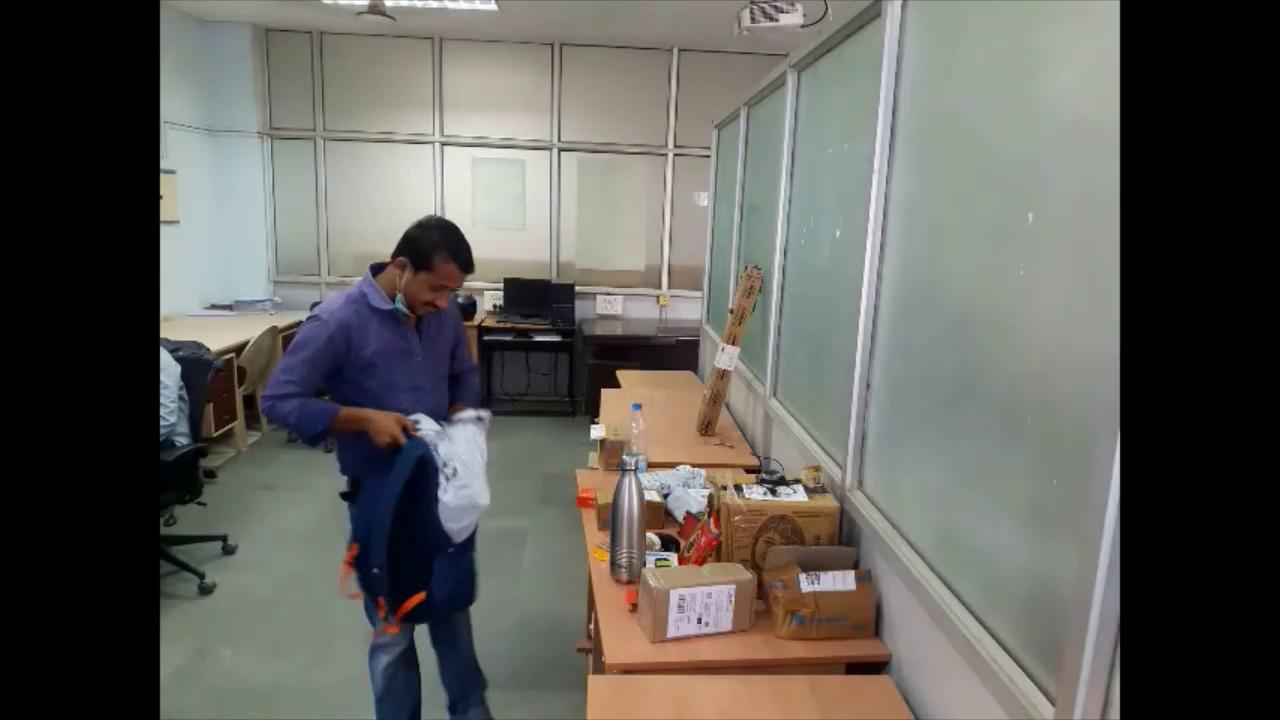shoplifting: (307, 210, 533, 717)
